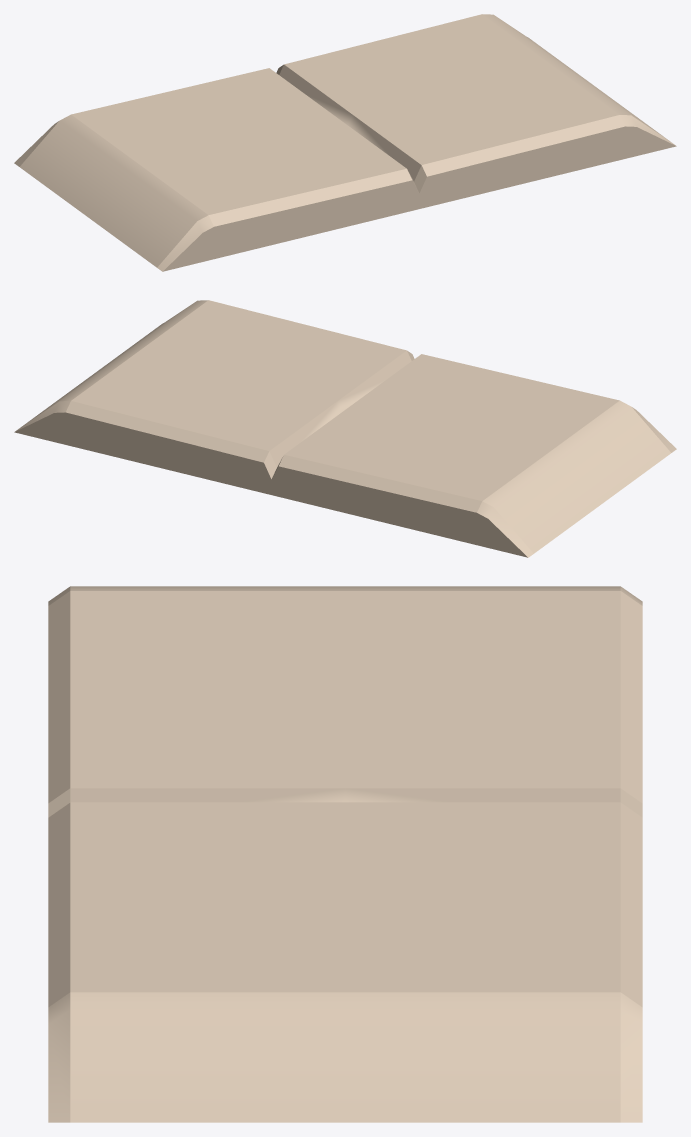
Rendered from Module_Ss_roof_2XD.FBX.
3 renders of one model, top to bottom at view 1: azimuth 30°, elevation 25°; view 2: azimuth 150°, elevation 25°; view 3: azimuth 270°, elevation 25°, orthographic. The views are drawn at different scales.
Visible parts, largest first — view 1: Module_Ss_roof_2XD; view 2: Module_Ss_roof_2XD; view 3: Module_Ss_roof_2XD.
Part boxes in pixels (x1,y1,x2,y2): Module_Ss_roof_2XD: (14, 14, 676, 271); Module_Ss_roof_2XD: (14, 300, 676, 557); Module_Ss_roof_2XD: (48, 586, 642, 1122).
Bounding box in the file's own units: 78.74 × 5.86 × 39.37.
